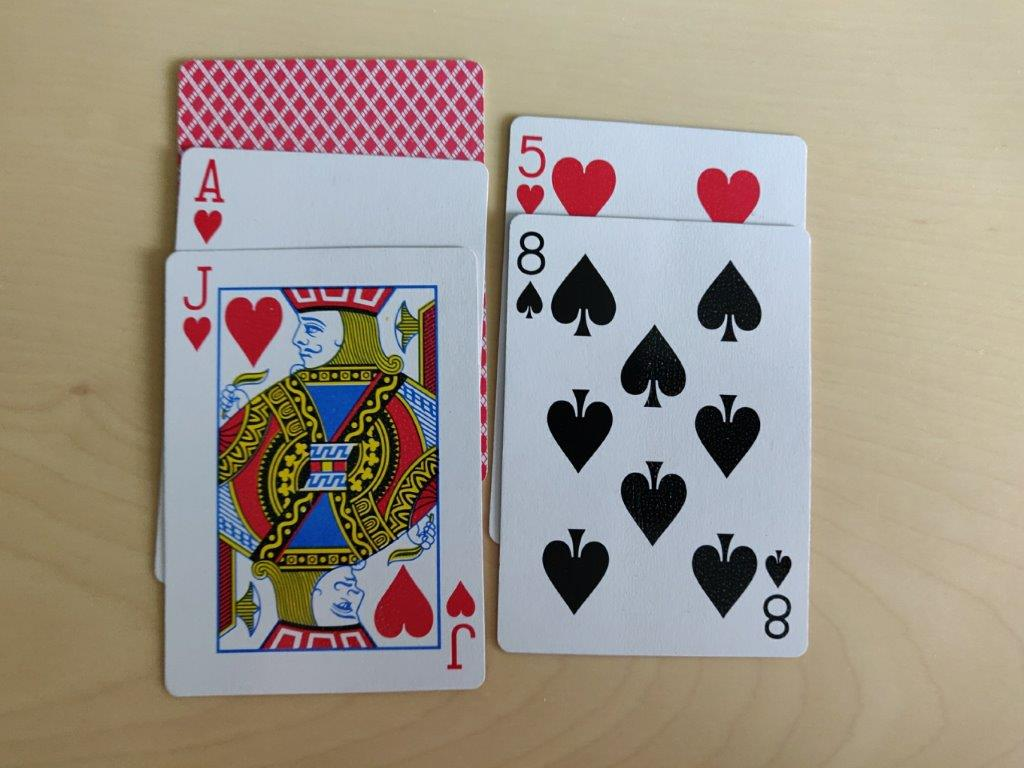5H: (512, 127, 554, 214)
8S: (513, 221, 549, 323)
AH: (186, 154, 230, 246)
BACK: (186, 62, 485, 159)
JH: (175, 261, 216, 356)
